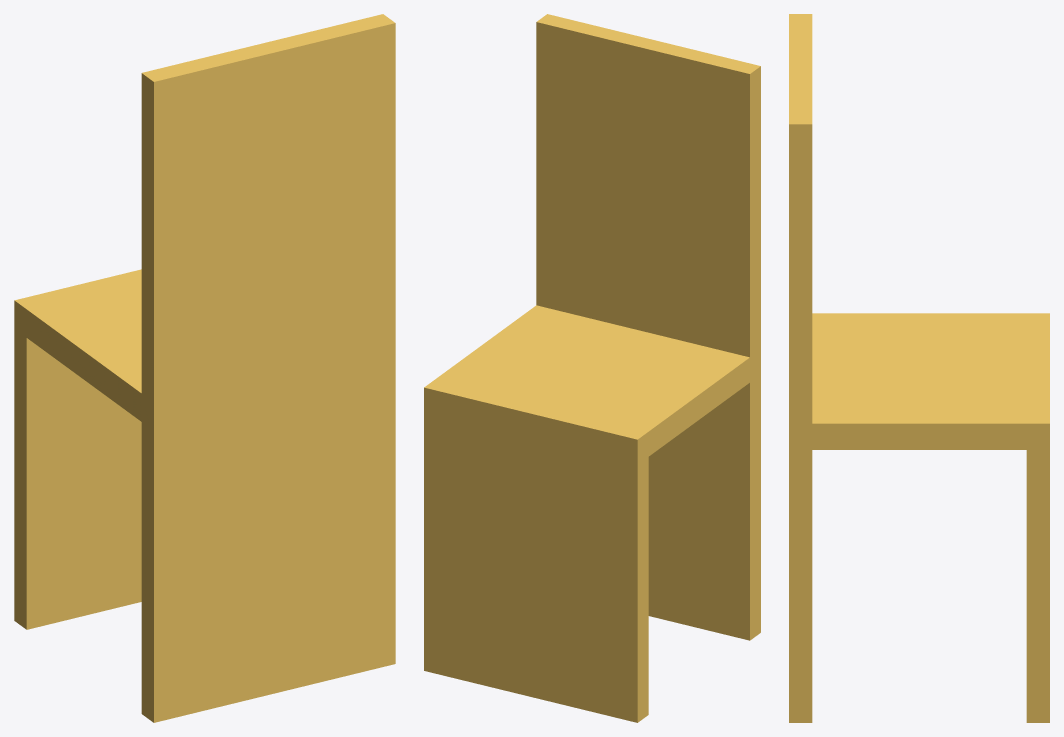
File: Prop_F5_PentagonDeskChair.fbx
3 renders of one model, left to right at view 1: azimuth 30°, elevation 25°; view 2: azimuth 150°, elevation 25°; view 3: azimuth 270°, elevation 25°, orthographic. The views are drawn at different scales.
Visible parts, largest first — view 1: Prop_F5_PentagonChair; view 2: Prop_F5_PentagonChair; view 3: Prop_F5_PentagonChair.
Part boxes in pixels (left/top/right/bottom): Prop_F5_PentagonChair: left=14, top=14, right=395, bottom=722; Prop_F5_PentagonChair: left=424, top=14, right=760, bottom=722; Prop_F5_PentagonChair: left=789, top=14, right=1049, bottom=722.
Bounding box in the file's own units: 33.08 × 83.83 × 33.08.
